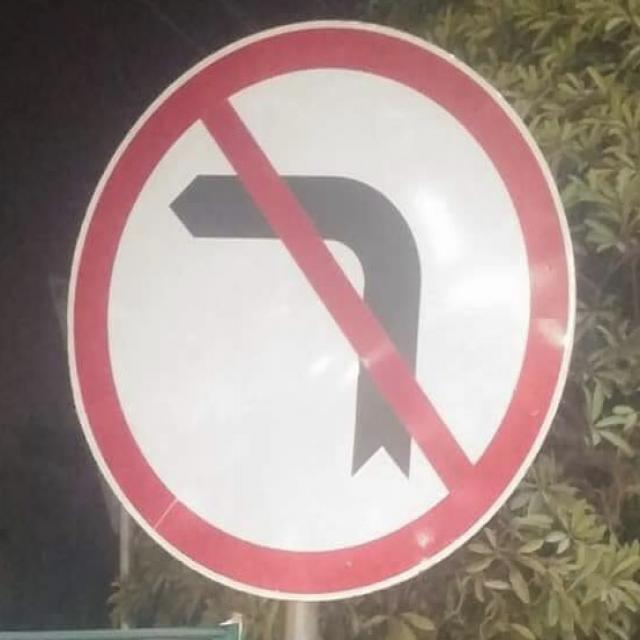left turn prohibited: (63, 21, 582, 610)
